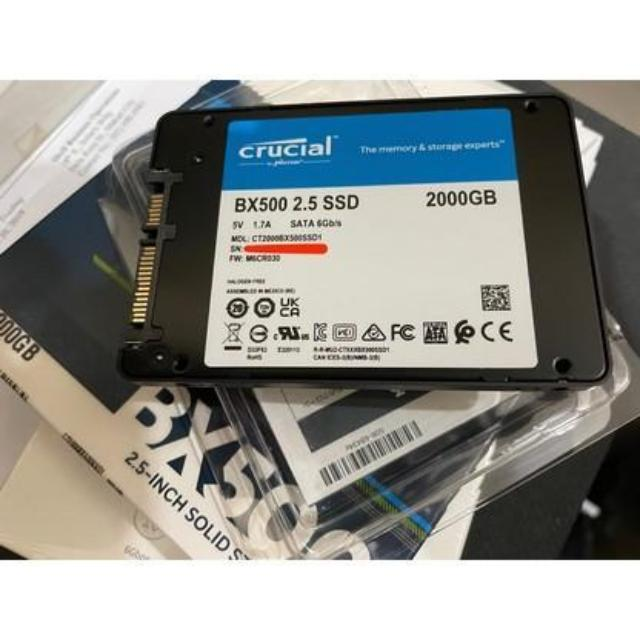DISK: (116, 90, 610, 381)
